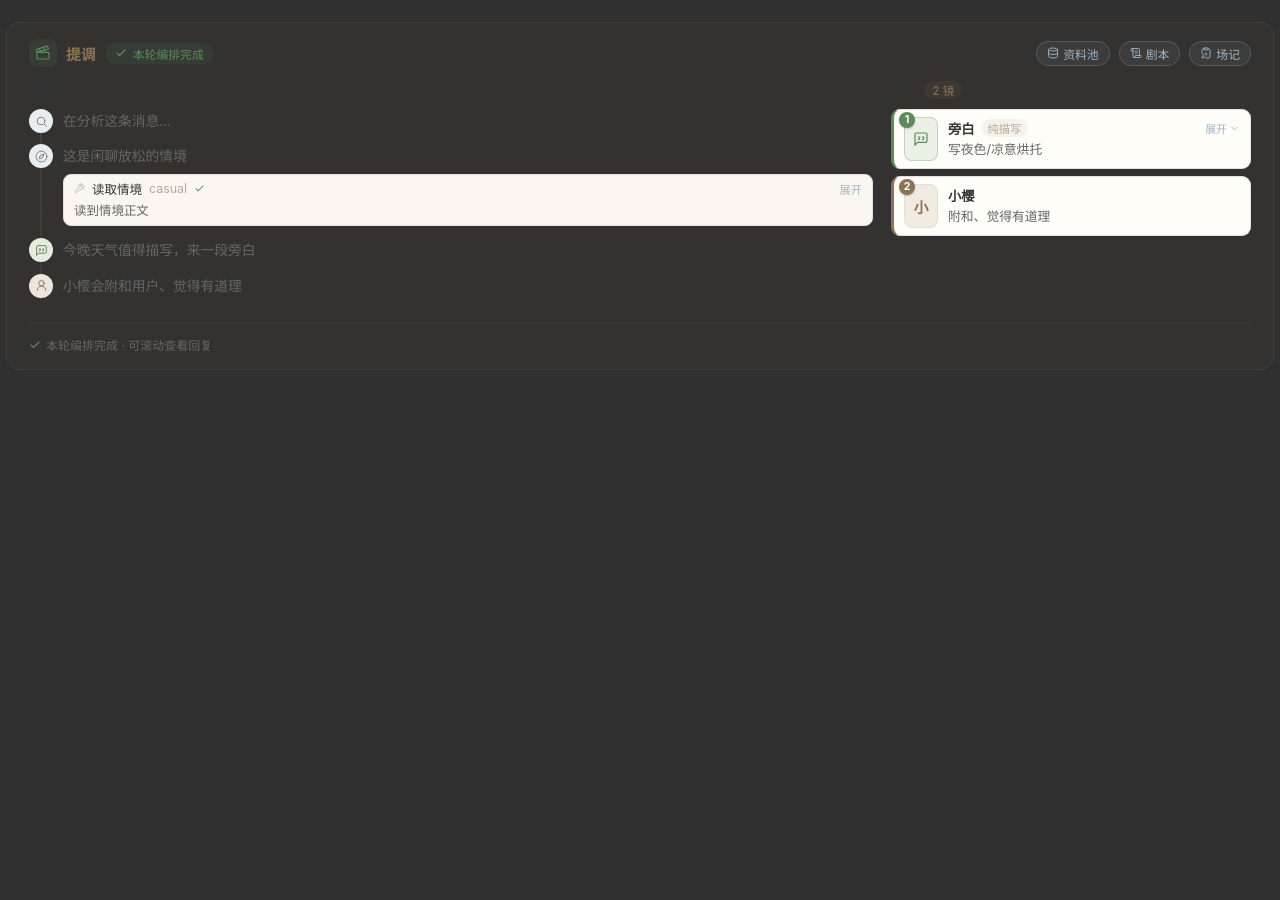
Test case: TidiaoDirectorStreamBand › 批次4·C 资料池入口 › 只有空角色池（0 卡）：入口常驻，点开显示空态
What coordinates should you click on to do the following:
click the button with class "tds-entry" showing "资料池"
I would click on:
 (1073, 53)
Its box is [1036,40,1110,66].
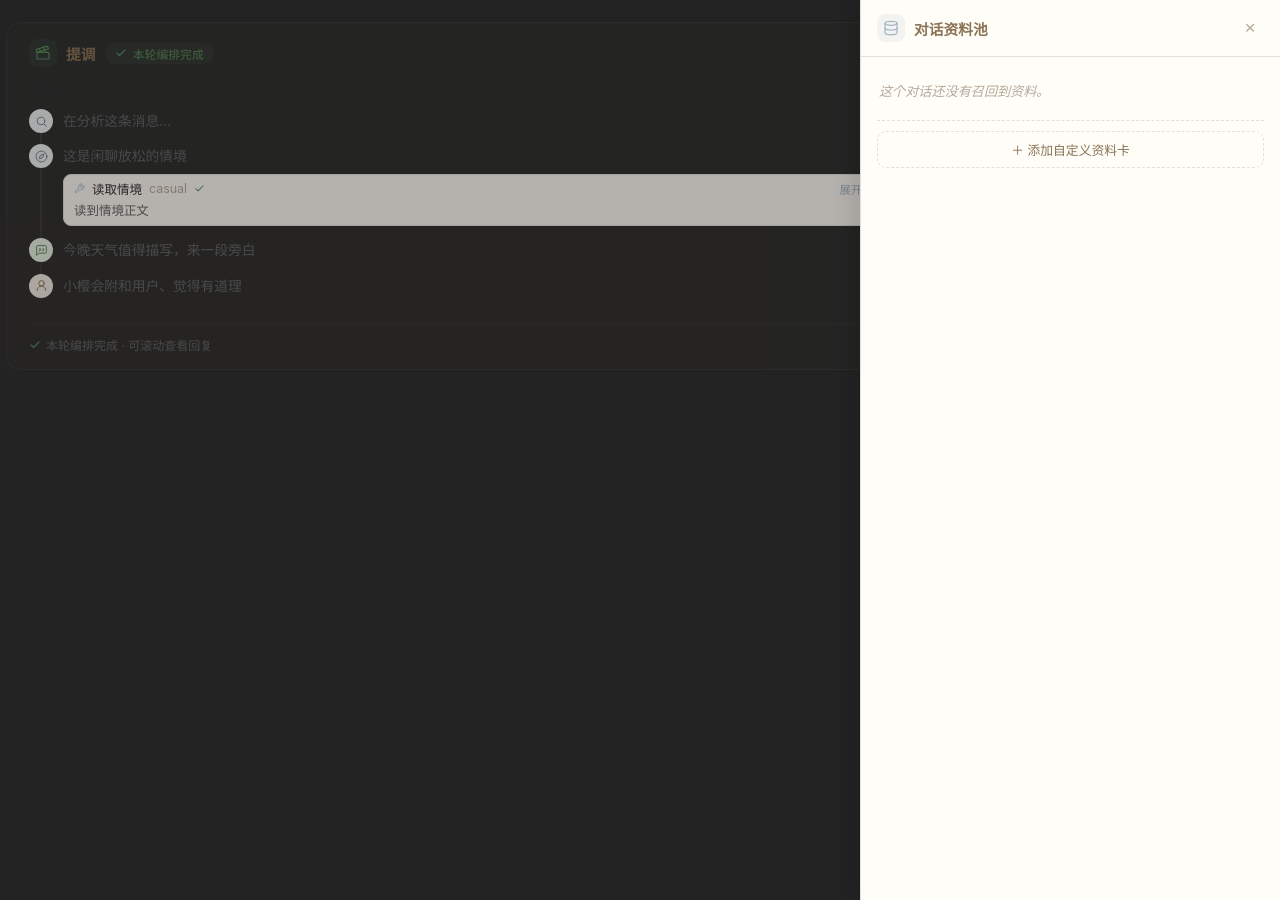
Expected: the text "这个对话还没有召回到资料。" is shown, [879,83,1049,99]
